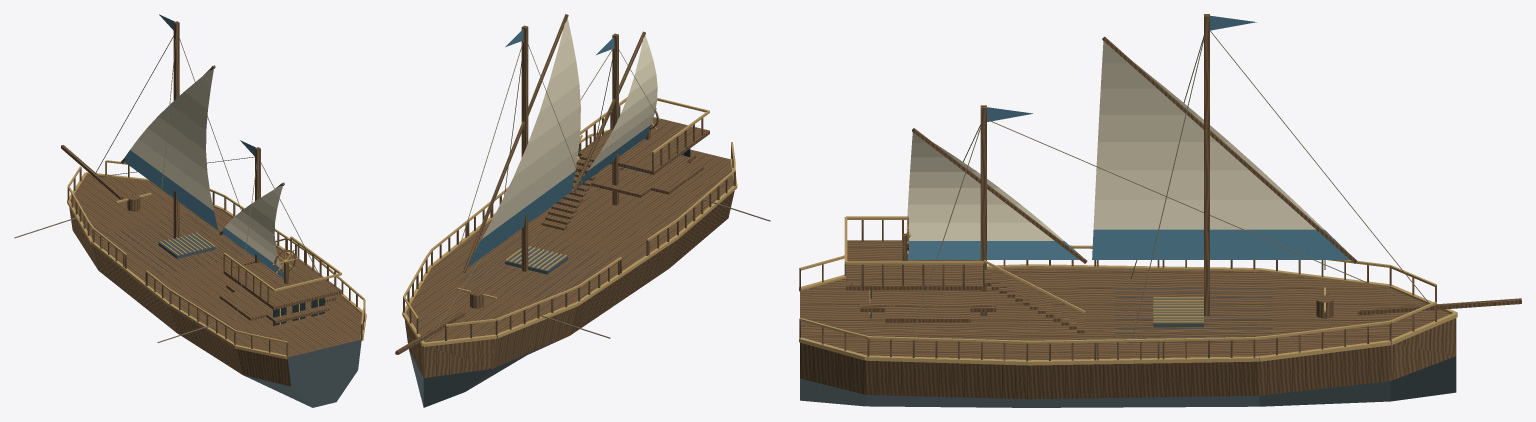
File: DawnTreaderV9.glb
3 renders of one model, left to right at view 1: azimuth 30°, elevation 25°; view 2: azimuth 150°, elevation 25°; view 3: azimuth 270°, elevation 25°, orthographic. The views are drawn at different scales.
Parts seen in each view (by area): view 1: Dawn Treader sailing vessel, DawnTreader helm deck wheel stairs and fittings; view 2: Dawn Treader sailing vessel, DawnTreader helm deck wheel stairs and fittings; view 3: Dawn Treader sailing vessel, DawnTreader helm deck wheel stairs and fittings.
Boxes of the visible parts, left/top/right/bottom form: Dawn Treader sailing vessel: left=14, top=14, right=366, bottom=407; DawnTreader helm deck wheel stairs and fittings: left=107, top=192, right=341, bottom=325; Dawn Treader sailing vessel: left=395, top=14, right=770, bottom=407; DawnTreader helm deck wheel stairs and fittings: left=452, top=97, right=709, bottom=308; Dawn Treader sailing vessel: left=799, top=14, right=1521, bottom=407; DawnTreader helm deck wheel stairs and fittings: left=844, top=216, right=1333, bottom=342.
Size of the model in its own units: 12.08 by 16.5 by 28.65.
10 materials, 1 textured.
